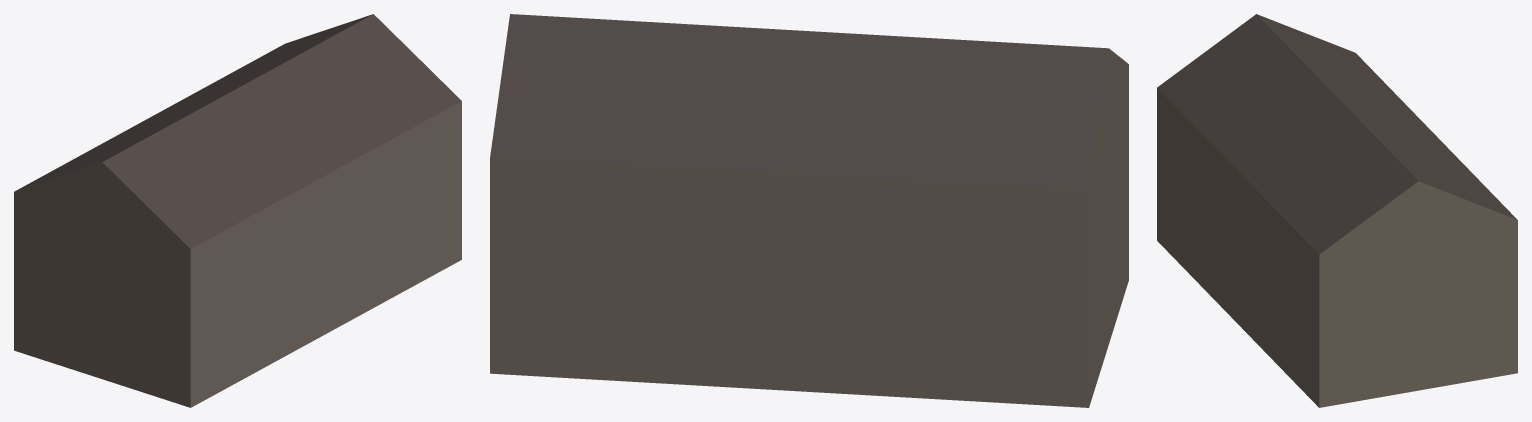
3 renders of one model, left to right at view 1: azimuth 30°, elevation 25°; view 2: azimuth 150°, elevation 25°; view 3: azimuth 270°, elevation 25°, orthographic. The views are drawn at different scales.
Visible parts, largest first — view 1: HP-w369342541; view 2: HP-w369342541; view 3: HP-w369342541.
Boxes of the visible parts, box(x1,y1,x2,y2) form: HP-w369342541: box(14, 14, 461, 407); HP-w369342541: box(490, 14, 1128, 407); HP-w369342541: box(1157, 14, 1517, 407).
Bounding box in the file's own units: 16.96 × 8.2 × 12.81.
